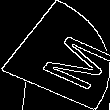M_NW: (10, 22, 100, 88)
